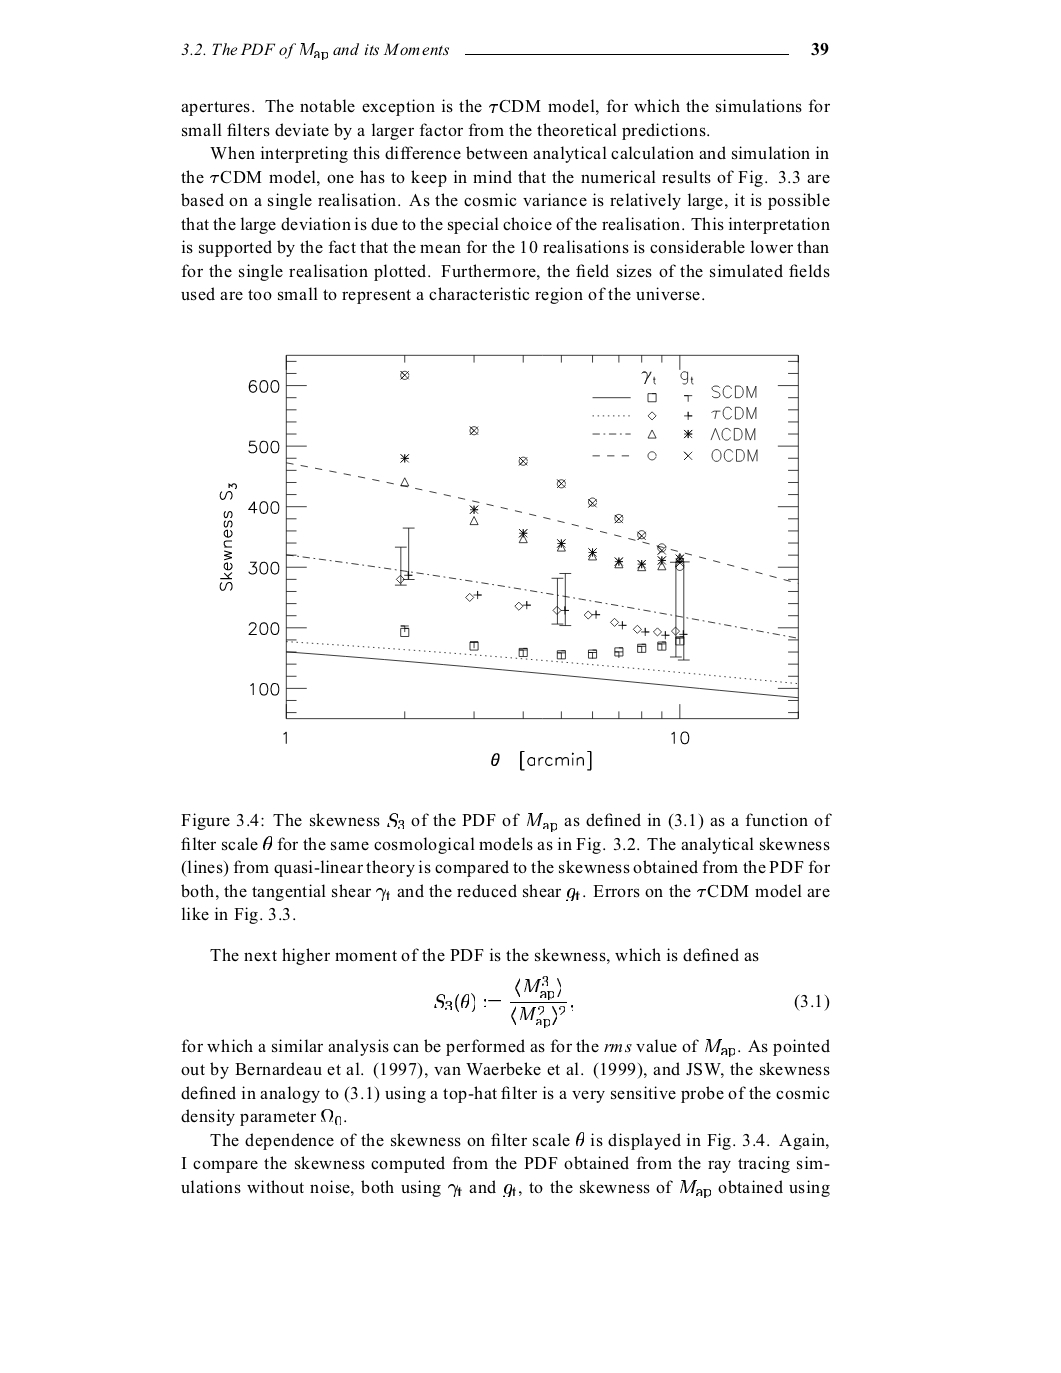figure: (220, 354, 798, 770)
formula: (434, 975, 829, 1028)
